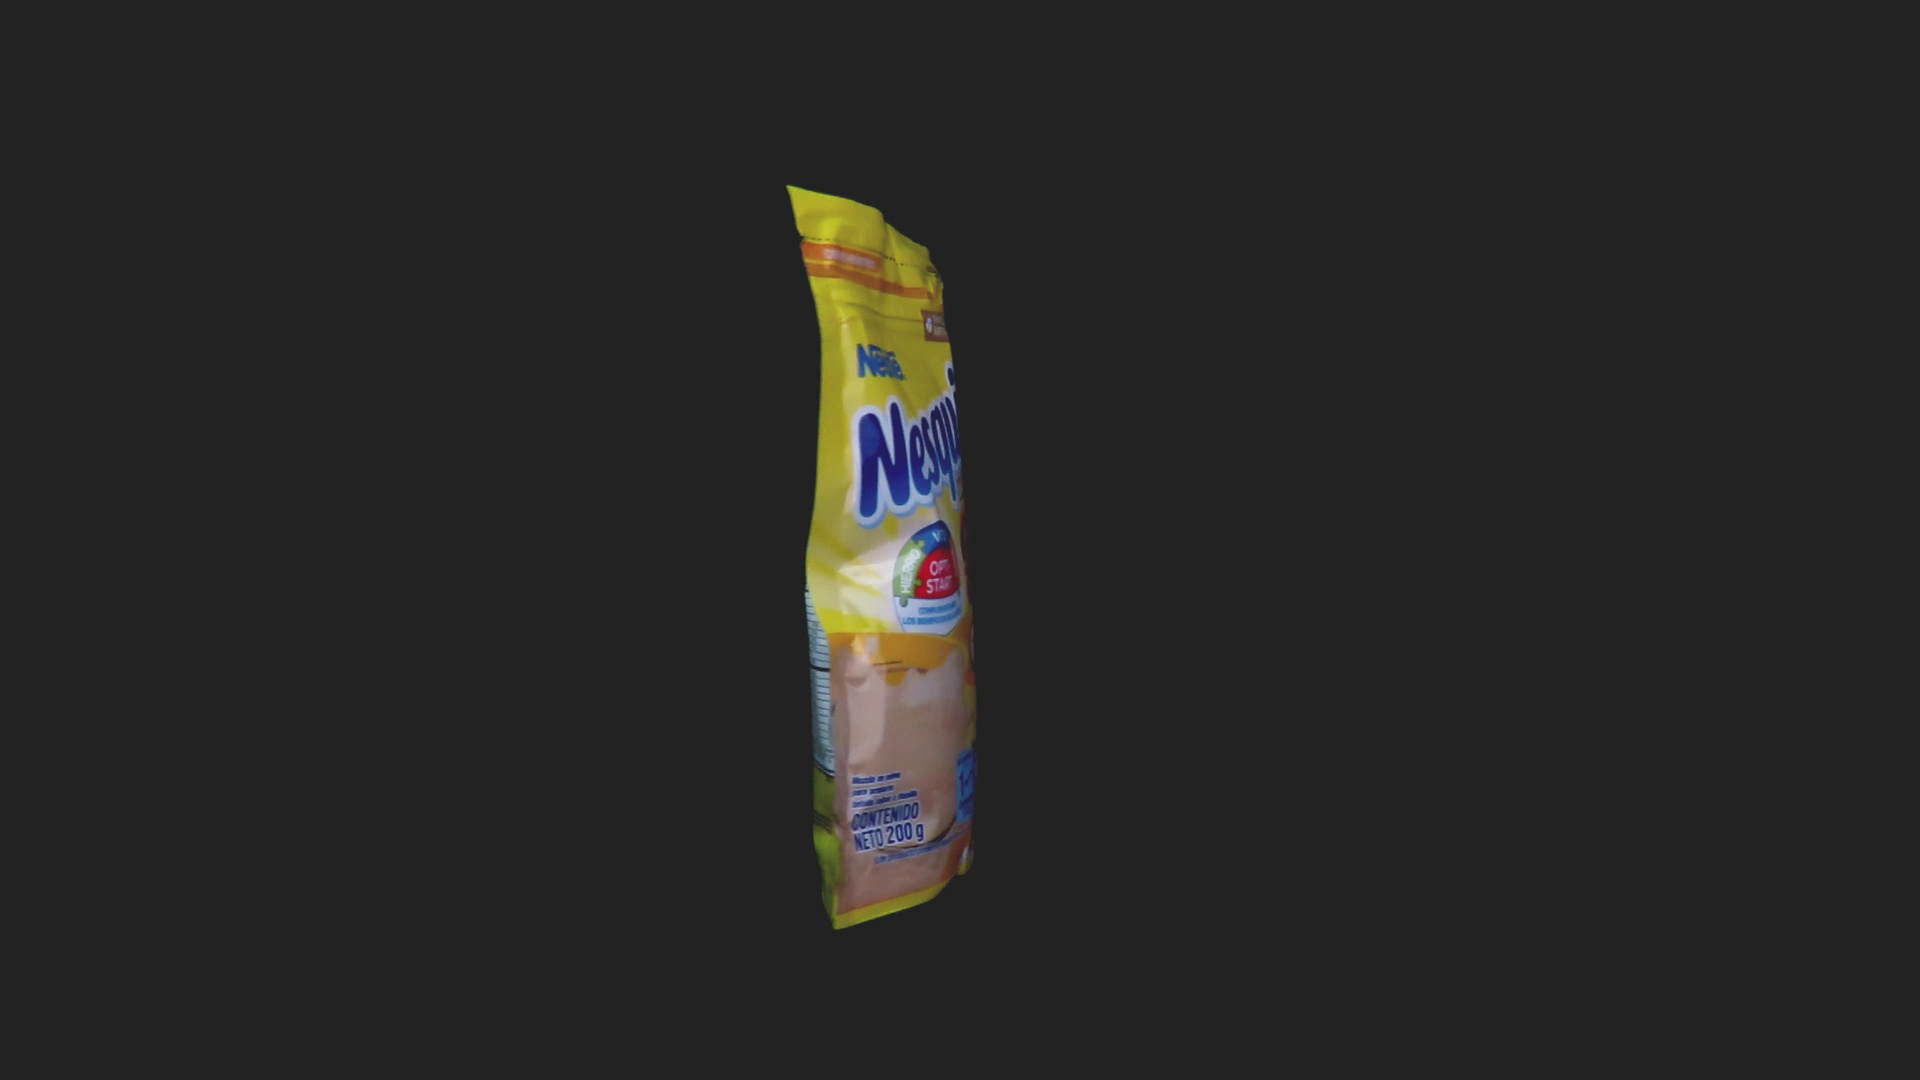COL0170306DYP20000: (781, 179, 981, 936)
